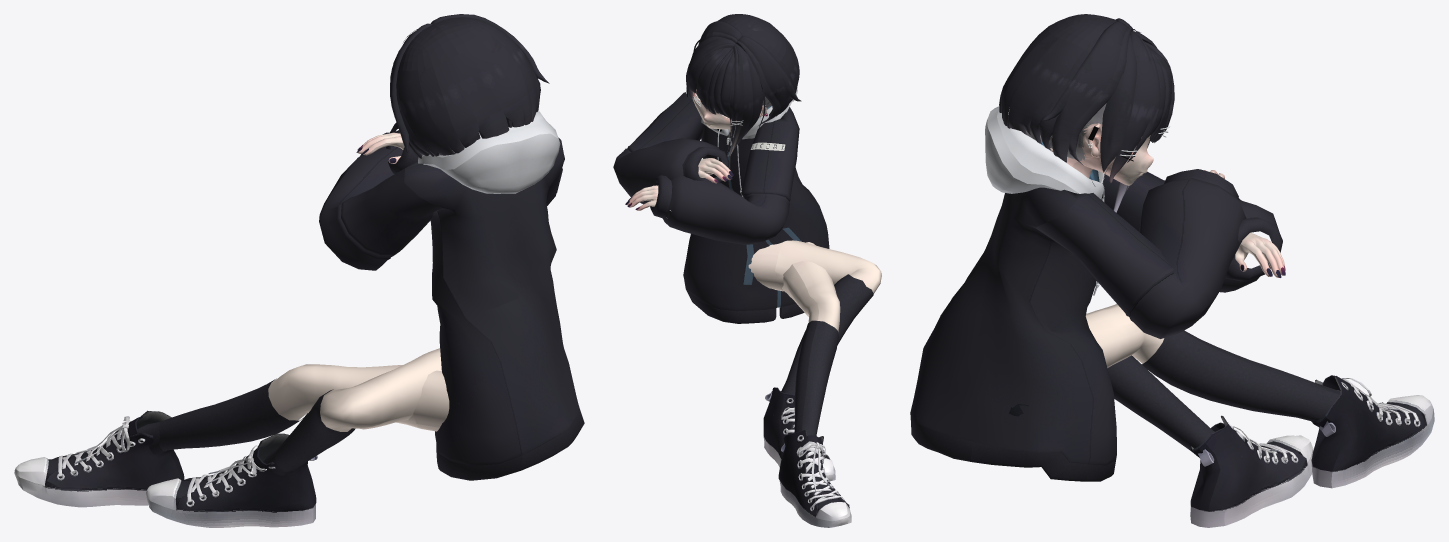
File: ung35_folded_pose.glb
3 views of the same model, side by side, from view 1: azimuth 30°, elevation 25°; view 2: azimuth 150°, elevation 25°; view 3: azimuth 270°, elevation 25° (orthographic). The views are drawn at different scales.
Visible parts, largest first — view 1: パーカー, Shose_Def, HairMain, SS_A01_Body, ニーソ; view 2: パーカー, HairMain, SS_A01_Body, Shose_Def, ニーソ, Body; view 3: パーカー, HairMain, Shose_Def, ニーソ, SS_A01_Body, Body.
Boxes of the visible parts, x1,y1,x2,y2 form: パーカー: (319, 111, 584, 480); Shose_Def: (14, 410, 317, 527); HairMain: (390, 14, 549, 158); SS_A01_Body: (268, 132, 449, 431); ニーソ: (137, 378, 355, 475); パーカー: (613, 87, 829, 323); HairMain: (686, 14, 801, 156); SS_A01_Body: (625, 129, 881, 331); Shose_Def: (763, 387, 851, 527); ニーソ: (773, 274, 873, 436); Body: (692, 89, 766, 129); パーカー: (910, 106, 1282, 481); HairMain: (999, 14, 1174, 212); Shose_Def: (1190, 375, 1434, 527); ニーソ: (1107, 330, 1340, 456); SS_A01_Body: (1050, 148, 1285, 367); Body: (1075, 123, 1153, 185).
Size of the model in its own units: 0.8163 by 0.9394 by 0.8031.
8 materials, 8 textured.
